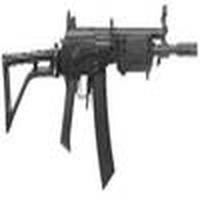gun: (4, 6, 199, 190)
